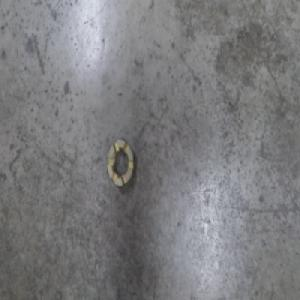Nut: (105, 136, 135, 189)
